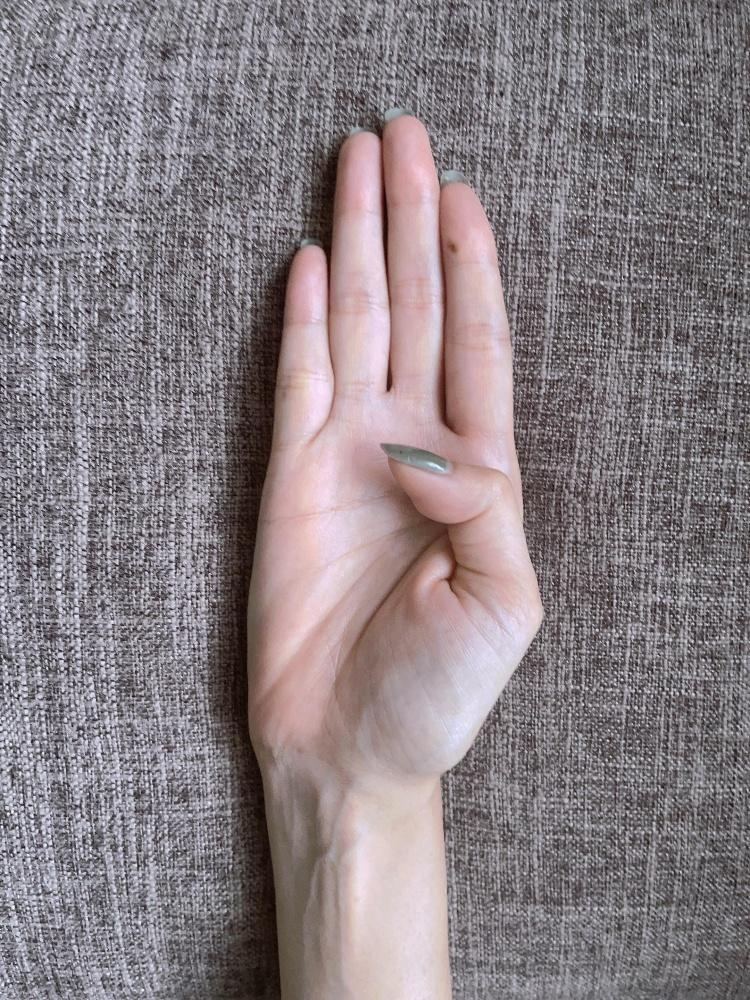b: (245, 98, 546, 775)
